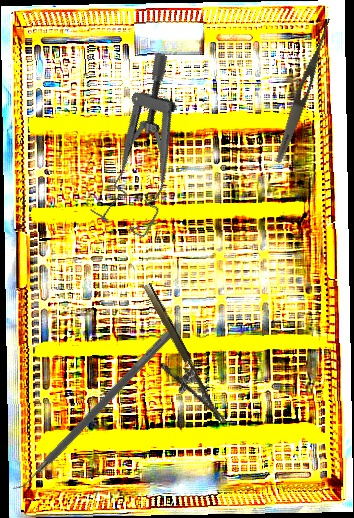Dressing Forceps: (272, 16, 335, 165)
Needle Holder: (123, 281, 227, 437)
Spatula Surgical: (9, 324, 173, 498)
Speculum: (75, 50, 224, 242)
